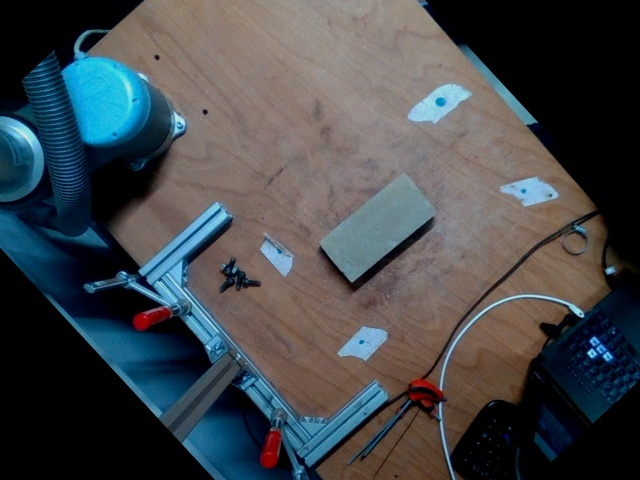brick: (321, 176, 434, 280)
